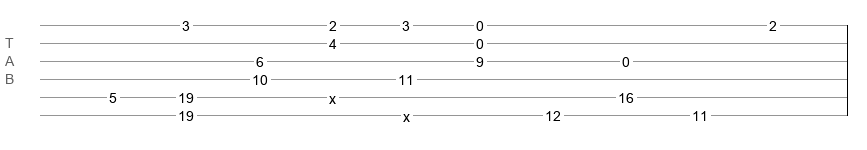0: (476, 36, 484, 46), (476, 18, 484, 28), (622, 54, 630, 64)
10: (252, 72, 268, 82)
11: (398, 72, 414, 82), (692, 108, 708, 118)
12: (545, 108, 561, 118)
16: (618, 90, 634, 100)
19: (178, 108, 194, 118), (178, 90, 194, 100)
2: (329, 18, 337, 28), (769, 18, 777, 28)
3: (182, 18, 190, 28), (402, 18, 410, 28)
4: (329, 36, 337, 46)
5: (109, 90, 117, 100)
6: (256, 54, 264, 64)
9: (476, 54, 484, 64)
x: (329, 91, 336, 99), (403, 109, 410, 117)
